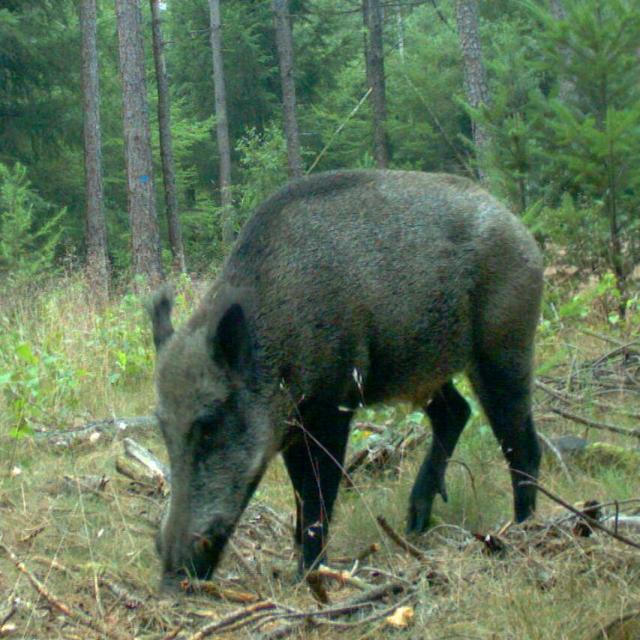pig: (59, 115, 603, 596)
